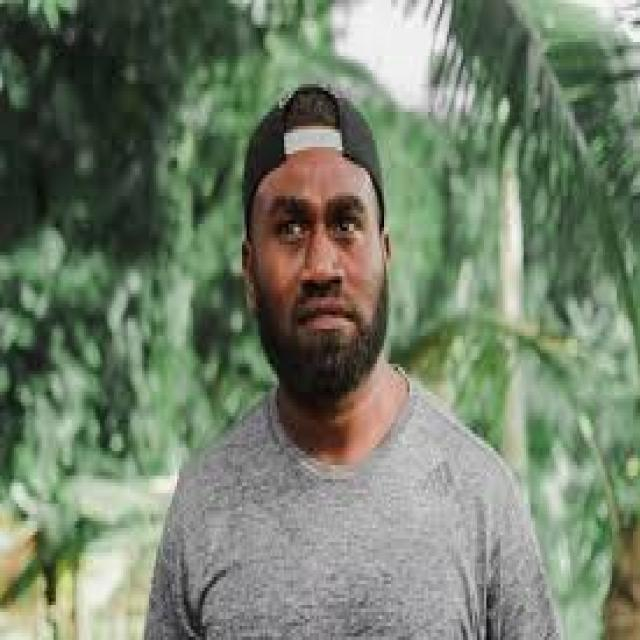cap: (242, 84, 391, 406)
